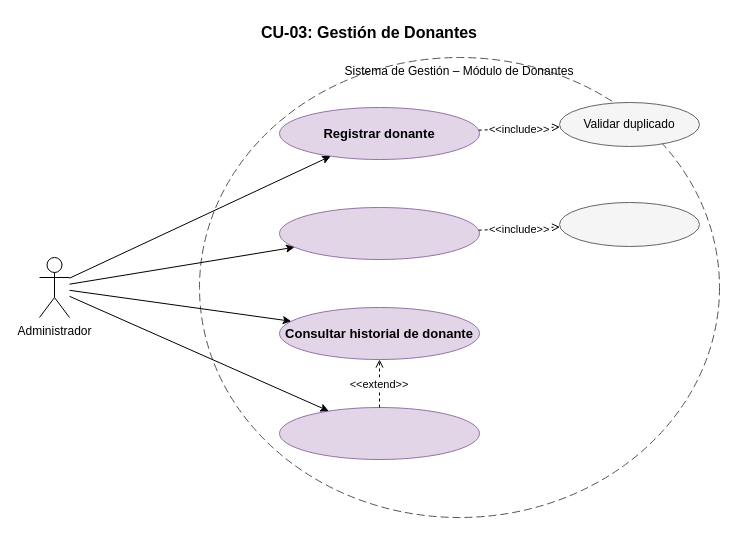
The diagram is 737 pixels wide and 535 high, and some of its shapes have lost their labels. Each missing label, with the box of its shape:
Asociar a donante existente: (558, 202, 700, 246)
Editar datos de donante: (278, 406, 480, 460)
Registrar donación: (278, 206, 480, 260)
